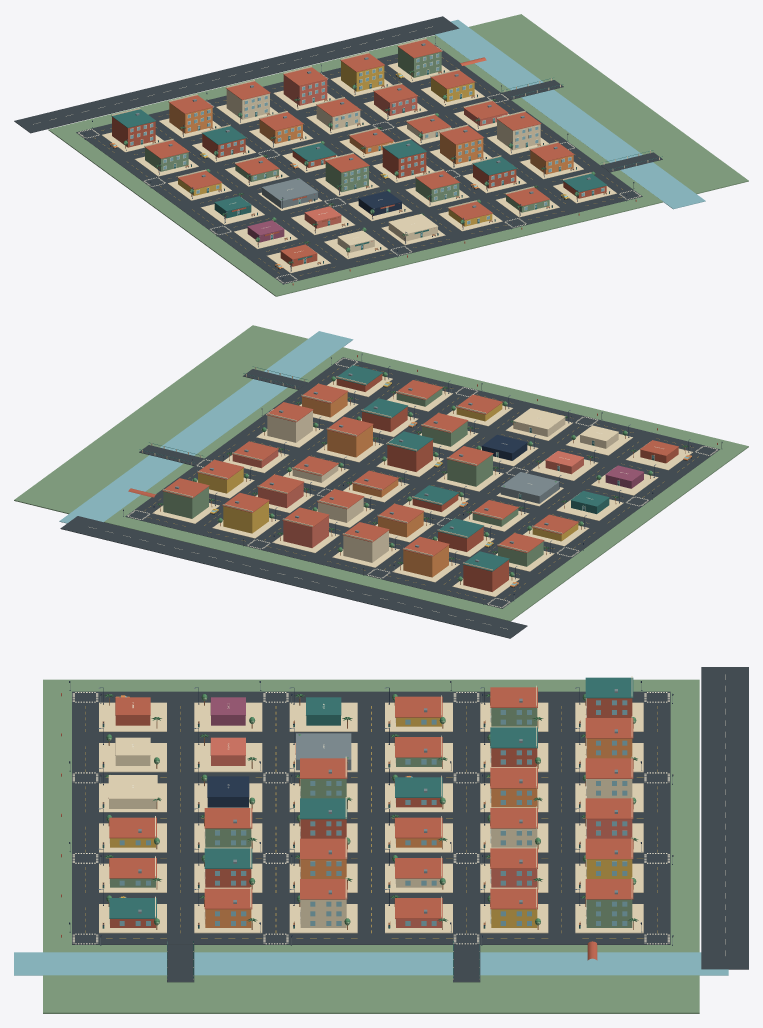
The model's file is CityMap_6x6_StaticDesign.fbx.
The picture shows the model from 3 angles, top to bottom: view 1: azimuth 30°, elevation 25°; view 2: azimuth 150°, elevation 25°; view 3: azimuth 270°, elevation 25°; orthographic projection. The views are drawn at different scales.
Parts seen in each view (by area): view 1: CityTerrain, RiverRightBank, Highway, River, BuildingBody.015, BuildingBody.012, BuildingBody.018, BuildingBody.027, BuildingBody.006, BuildingBody.009, BuildingBody.005, BuildingBody.002 (+48 smaller); view 2: CityTerrain, RiverRightBank, Highway, River, BuildingBody.006, BuildingBody.005, BuildingBody.018, BuildingBody.002, BuildingBody.009, BuildingBody.012, BuildingBody.015, BuildingBody.021 (+48 smaller); view 3: CityTerrain, RiverRightBank, River, Highway, Local_PARKING_Roof_Removable.007, BlockSidewalk.007, BlockSidewalk.002, BlockSidewalk, BlockSidewalk.001, BlockSidewalk.006, Local_BANK_Roof_Removable.002, BuildingBody.024 (+135 smaller).
Part boxes in pixels (bbox=[...]): CityTerrain: bbox=[48, 35, 662, 296]; RiverRightBank: bbox=[469, 14, 748, 193]; Highway: bbox=[14, 16, 459, 133]; River: bbox=[435, 19, 705, 209]; BuildingBody.015: bbox=[283, 75, 327, 105]; BuildingBody.012: bbox=[382, 147, 426, 178]; BuildingBody.018: bbox=[440, 133, 483, 164]; BuildingBody.027: bbox=[398, 47, 441, 77]; BuildingBody.006: bbox=[325, 162, 368, 192]; BuildingBody.009: bbox=[226, 89, 269, 119]; BuildingBody.005: bbox=[169, 103, 212, 133]; BuildingBody.002: bbox=[112, 117, 155, 147]; CityTerrain: bbox=[104, 347, 748, 621]; RiverRightBank: bbox=[14, 325, 307, 514]; Highway: bbox=[60, 516, 527, 638]; River: bbox=[59, 331, 353, 523]; BuildingBody.006: bbox=[447, 454, 492, 486]; BuildingBody.005: bbox=[403, 545, 448, 577]; BuildingBody.018: bbox=[327, 425, 372, 457]; BuildingBody.002: bbox=[463, 560, 508, 591]; BuildingBody.009: bbox=[343, 530, 388, 562]; BuildingBody.012: bbox=[387, 440, 432, 471]; BuildingBody.015: bbox=[283, 516, 328, 547]; BuildingBody.021: bbox=[223, 501, 268, 533]; CityTerrain: bbox=[43, 679, 699, 952]; RiverRightBank: bbox=[43, 975, 699, 1013]; River: bbox=[14, 952, 728, 975]; Highway: bbox=[701, 667, 748, 969]; Local_PARKING_Roof_Removable.007: bbox=[296, 733, 351, 760]; BlockSidewalk.007: bbox=[194, 743, 262, 772]; BlockSidewalk.002: bbox=[289, 702, 357, 731]; BlockSidewalk: bbox=[99, 702, 166, 731]; BlockSidewalk.001: bbox=[194, 702, 262, 731]; BlockSidewalk.006: bbox=[99, 743, 166, 772]; Local_BANK_Roof_Removable.002: bbox=[108, 775, 157, 798]; BuildingBody.024: bbox=[300, 899, 346, 927].
Bounding box in the file's own units: 240 × 11.71 × 216.
